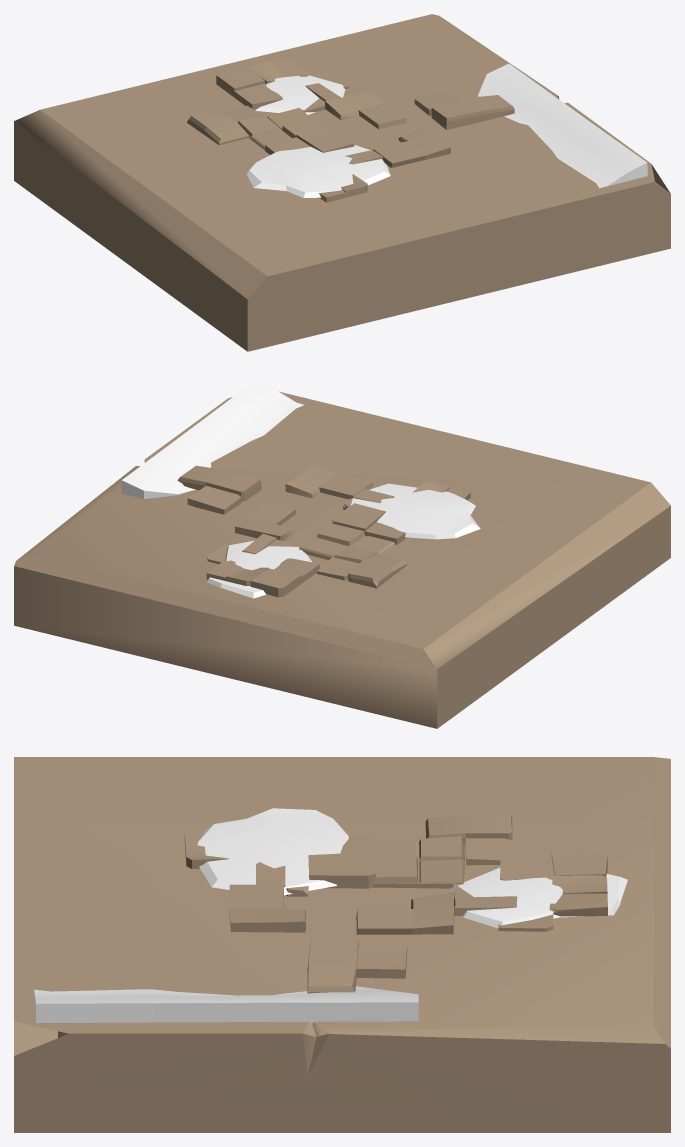
The model's file is ston floor.FBX.
3 renders of one model, top to bottom at view 1: azimuth 30°, elevation 25°; view 2: azimuth 150°, elevation 25°; view 3: azimuth 270°, elevation 25°, orthographic. The views are drawn at different scales.
Visible parts, largest first — view 1: ston floor, snow052, snow050, ston246, ston250, ston245, ston244, ston255, snow051, ston253, ston247, ston252 (+2 smaller); view 2: ston floor, snow052, snow050, ston246, ston250, snow051, ston255, ston244, ston253, ston245, ston247, ston252; view 3: ston floor, snow052, snow050, ston246, ston250, snow051, ston255, ston244, ston245, ston247, ston253, ston252 (+4 smaller).
Boxes of the visible parts, left/top/right/bottom form: ston floor: left=14, top=14, right=670, bottom=351; snow052: left=477, top=63, right=647, bottom=188; snow050: left=247, top=145, right=390, bottom=197; ston246: left=414, top=88, right=514, bottom=129; ston250: left=238, top=108, right=324, bottom=150; ston245: left=325, top=91, right=406, bottom=129; ston244: left=373, top=126, right=450, bottom=167; ston255: left=187, top=106, right=264, bottom=145; snow051: left=255, top=75, right=345, bottom=114; ston253: left=216, top=66, right=282, bottom=109; ston247: left=265, top=126, right=354, bottom=154; ston252: left=249, top=58, right=309, bottom=83; ston floor: left=14, top=391, right=670, bottom=728; snow052: left=121, top=380, right=303, bottom=498; snow050: left=346, top=483, right=480, bottom=539; ston246: left=177, top=465, right=261, bottom=514; ston250: left=299, top=524, right=395, bottom=563; snow051: left=207, top=541, right=311, bottom=598; ston255: left=317, top=554, right=406, bottom=588; ston244: left=285, top=466, right=373, bottom=499; ston253: left=250, top=558, right=319, bottom=597; ston245: left=235, top=502, right=296, bottom=541; ston247: left=332, top=503, right=406, bottom=545; ston252: left=206, top=560, right=268, bottom=585; ston floor: left=14, top=757, right=670, bottom=1132; snow052: left=34, top=986, right=418, bottom=1023; snow050: left=197, top=808, right=348, bottom=895; ston246: left=307, top=936, right=407, bottom=993; ston250: left=372, top=836, right=465, bottom=888; snow051: left=449, top=867, right=627, bottom=928; ston255: left=425, top=811, right=512, bottom=865; ston244: left=229, top=884, right=306, bottom=932; ston245: left=356, top=892, right=454, bottom=934; ston247: left=308, top=834, right=375, bottom=888; ston253: left=500, top=852, right=607, bottom=880; ston252: left=549, top=875, right=607, bottom=916.
Bounding box in the file's own units: 36.51 × 6.94 × 34.93.
